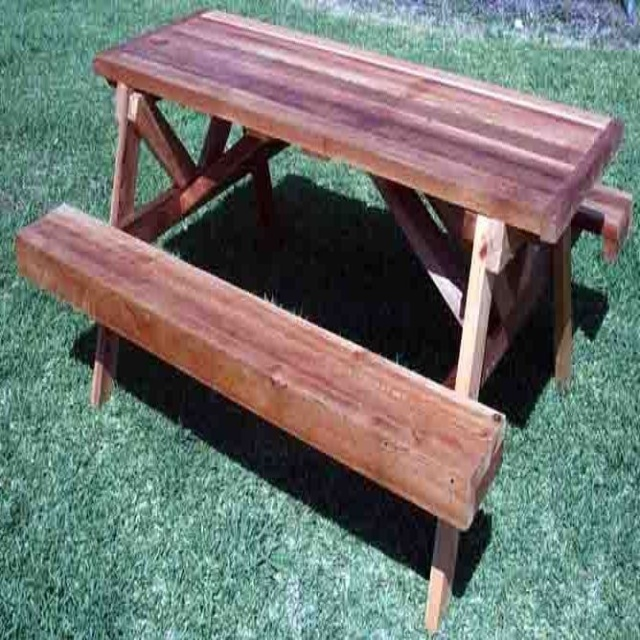obstacle: (13, 11, 636, 631)
